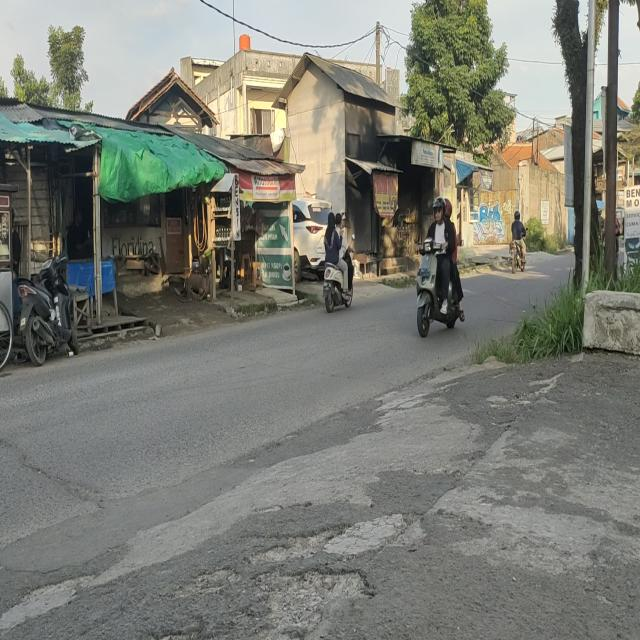helmet: (433, 196, 446, 223), (444, 199, 453, 220), (514, 210, 521, 222)
no-helmet: (328, 212, 336, 228), (336, 214, 342, 228)
